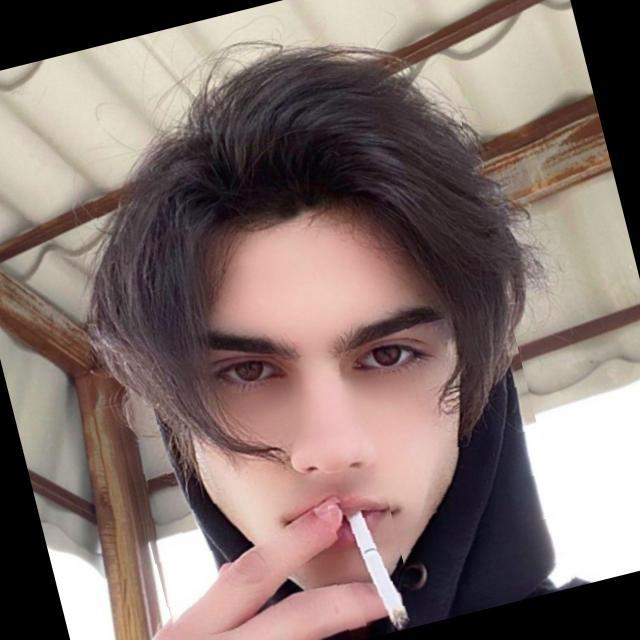cigarette: (327, 490, 419, 640)
